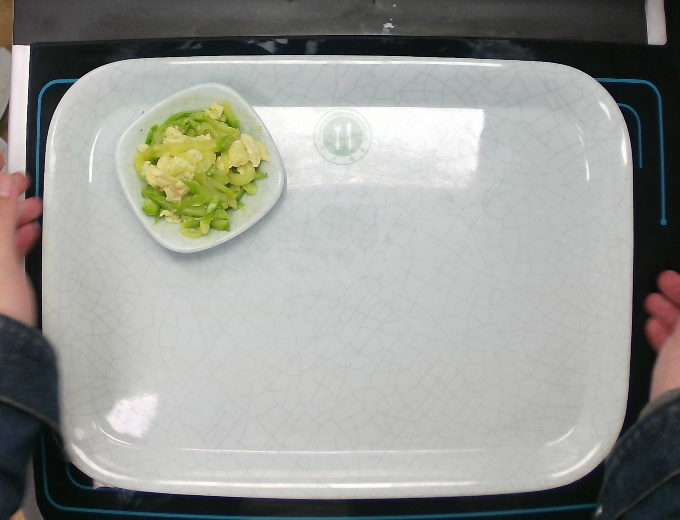JYsf-Si_Fang_Die: (112, 79, 287, 256)
